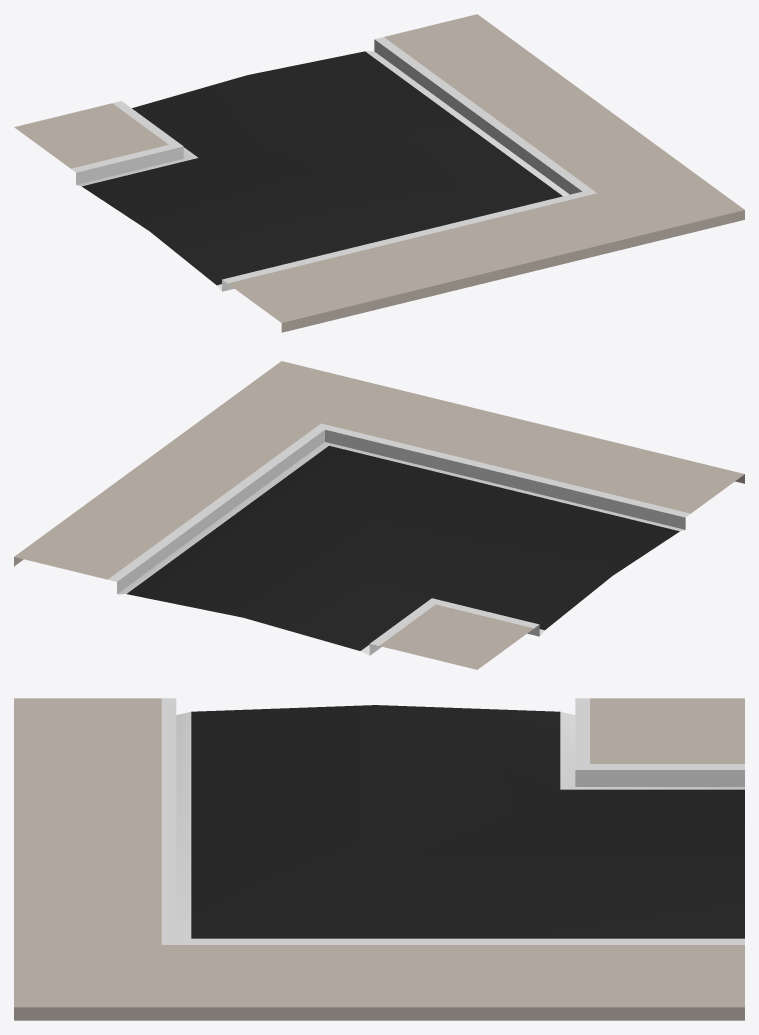
Rendered from Curva_2_Faixas.fbx.
3 views of the same model, one above another, from view 1: azimuth 30°, elevation 25°; view 2: azimuth 150°, elevation 25°; view 3: azimuth 270°, elevation 25° (orthographic). The views are drawn at different scales.
Parts seen in each view (by area): view 1: Curva_2_Faixas; view 2: Curva_2_Faixas; view 3: Curva_2_Faixas.
Boxes of the visible parts, box(x1,y1,x2,y2) form: Curva_2_Faixas: box(14, 14, 744, 332); Curva_2_Faixas: box(14, 361, 744, 669); Curva_2_Faixas: box(14, 698, 744, 1020).
Size of the model in its own units: 990 by 25 by 990.
